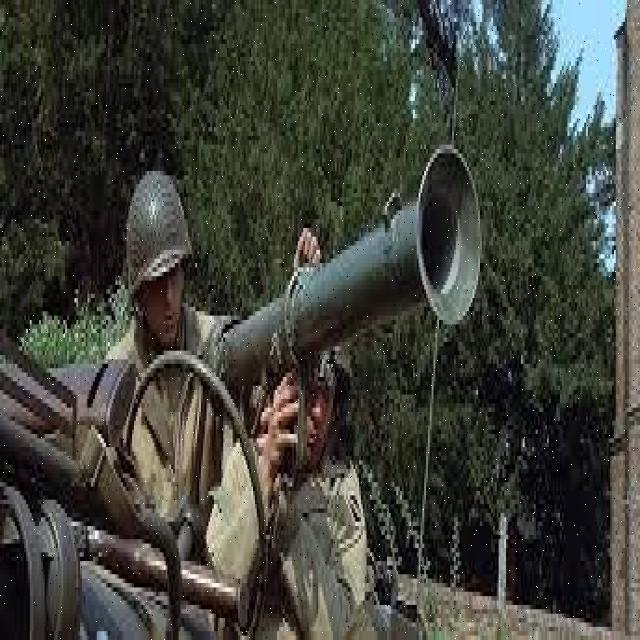bazooka: (220, 145, 488, 425)
